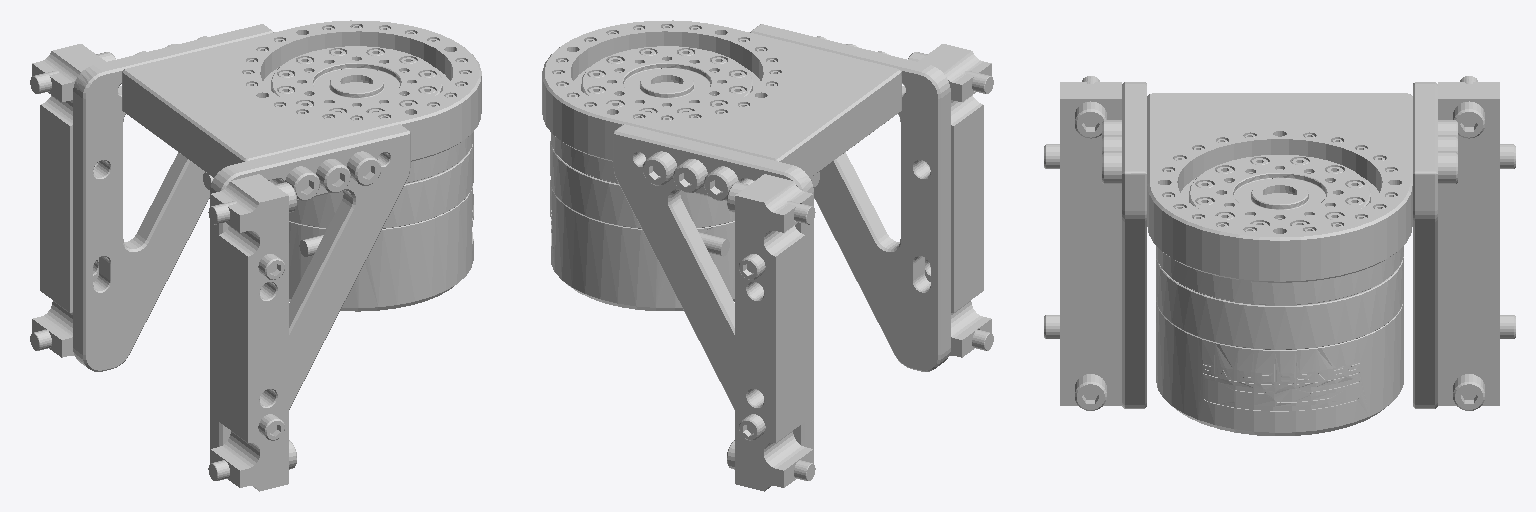
robot.urdf — scara_v2:
<?xml version="1.0" ?>
<!-- =================================================================================== -->
<!-- |    This document was autogenerated by xacro from scara_v2_with_gripper_urdf.xacro | -->
<!-- |    EDITING THIS FILE BY HAND IS NOT RECOMMENDED                                 | -->
<!-- =================================================================================== -->
<robot name="scara_v2" xmlns:xacro="http://www.ros.org/wiki/xacro">
  <!--  Material Color definitions -->
  <material name="white">
    <color rgba="1 1 1 1"/>
  </material>
  <material name="blue">
    <color rgba="0 0 1 1"/>
  </material>
  <material name="red">
    <color rgba="1 0 0 1"/>
  </material>
  <material name="green">
    <color rgba="0 1 0 1"/>
  </material>
  <material name="sensoSilver">
    <color rgba="0.839216 0.839216 0.839216 1"/>
  </material>
  <material name="sensoBlack">
    <color rgba="0 0 0 1 "/>
  </material>
  <material name="sensoGray">
    <color rgba="0.466667 0.533333 0.6 1 "/>
  </material>
  <material name="sensoDarkGray">
    <color rgba="0.156863 0.156863 0.156863 1 "/>
  </material>
  <!--****************************-->
  <!--****************************-->
  <!-- Link and Joint definitions  -->
  <link name="world"/>
  <joint name="world_to_BaseBox" type="fixed">
    <parent link="world"/>
    <child link="BaseBox"/>
    <origin rpy="0 0 0" xyz="0 0 0.965"/>
    <axis xyz="1 0 0"/>
  </joint>
  <!--           TABLE             -->
  <link name="BaseBox">
    <inertial>
      <origin rpy="0 0 0" xyz="0 0 0"/>
      <mass value="1"/>
      <inertia ixx="1" ixy="0" ixz="0" iyy="1" iyz="0" izz="1"/>
    </inertial>
    <visual>
      <origin rpy="0 0 0" xyz="0 0 0"/>
      <geometry>
        <mesh filename="package://scara_v2_with_gripper/meshes/baseBox.STL"/>
      </geometry>
      <material name="sensoGray">
            </material>
    </visual>
    <collision>
      <origin rpy="0 0 0" xyz="0 0 0"/>
      <geometry>
        <!--?????????-->
        <mesh filename="package://scara_v2_with_gripper/meshes/baseBox_modif.stl"/>
      </geometry>
    </collision>
  </link>
  <link name="CentralStop1">
    <inertial>
      <origin rpy="0 0 0" xyz="0 0 0"/>
      <mass value="0"/>
      <inertia ixx="1" ixy="0" ixz="0" iyy="1" iyz="0" izz="1"/>
    </inertial>
    <visual>
      <origin rpy="0 0 0" xyz="0 0 0"/>
      <geometry>
        <mesh filename="package://scara_v2_with_gripper/meshes/CentralStop1.STL"/>
      </geometry>
      <material name="red">
            </material>
    </visual>
    <collision>
      <origin rpy="0 0 0" xyz="0 0 0"/>
      <geometry>
        <mesh filename="package://scara_v2_with_gripper/meshes/CentralStop1_modif.stl"/>
      </geometry>
    </collision>
  </link>
  <joint name="Joint_CentralStop1" type="fixed">
    <parent link="BaseBox"/>
    <child link="CentralStop1"/>
    <origin rpy="-3.8218E-18 -1.301E-16 -3.1416" xyz="0.69 0.11 -0.0015"/>
    <axis xyz="1 0 0"/>
  </joint>
  <link name="CentralStop2">
    <inertial>
      <origin rpy="0 0 0" xyz="0 0 0"/>
      <mass value="1"/>
      <inertia ixx="1" ixy="0" ixz="0" iyy="1" iyz="0" izz="1"/>
    </inertial>
    <visual>
      <origin rpy="0 0 0" xyz="0 0 0"/>
      <geometry>
        <mesh filename="package://scara_v2_with_gripper/meshes/CentralStop2.STL"/>
      </geometry>
      <material name="red">
            </material>
    </visual>
    <collision>
      <origin rpy="0 0 0" xyz="0 0 0"/>
      <geometry>
        <mesh filename="package://scara_v2_with_gripper/meshes/CentralStop2_modif.stl"/>
      </geometry>
    </collision>
  </link>
  <joint name="Joint_CentralStop2" type="fixed">
    <parent link="BaseBox"/>
    <child link="CentralStop2"/>
    <origin rpy="-3.8218E-18 -1.301E-16 -3.1416" xyz="0.69 1.05 -0.0015"/>
    <axis xyz="1 0 0"/>
  </joint>
  <!-- ******************************-->
  <!--             SCARA             -->
  <link name="ScaraBase">
    <inertial>
      <origin rpy="0 0 0" xyz="0 0 0"/>
      <mass value="1"/>
      <inertia ixx="1" ixy="0" ixz="0" iyy="1" iyz="0" izz="1"/>
    </inertial>
    <visual>
      <origin rpy="0 0 0" xyz="0 0 0"/>
      <geometry>
        <mesh filename="package://scara_v2_with_gripper/meshes/ScaraBase.STL"/>
      </geometry>
      <material name="sensoSilver">
            </material>
    </visual>
    <collision>
      <origin rpy="0 0 0" xyz="0 0 0"/>
      <geometry>
        <mesh filename="package://scara_v2_with_gripper/meshes/ScaraBase.STL"/>
      </geometry>
    </collision>
  </link>
  <joint name="Joint_ScaraBase" type="fixed">
    <parent link="BaseBox"/>
    <child link="ScaraBase"/>
    <origin rpy="1.5708 0 0" xyz="0.212 0.58 0.141"/>
    <axis xyz="1 0 0"/>
  </joint>
  <link name="ScaraLink1">
    <inertial>
      <origin rpy="-1.57 0 0" xyz="0 0 0"/>
      <mass value="3.8063"/>
      <inertia ixx="7.8753E-3" ixy="4.6431E-3" ixz="-1.4702E-5" iyy="6.1309E-2" iyz="-5.8992E-6" izz="6.2681E-2"/>
    </inertial>
    <visual>
      <origin rpy="-1.57 0 0" xyz="0 0 0"/>
      <geometry>
        <mesh filename="package://scara_v2_with_gripper/meshes/ScaraLink1.STL"/>
        <!--ScaraLink1.STL-->
      </geometry>
      <material name="sensoSilver">
            </material>
    </visual>
    <collision>
      <origin rpy="-1.57 0 0" xyz="0 0 0"/>
      <geometry>
        <mesh filename="package://scara_v2_with_gripper/meshes/ScaraLink1.STL"/>
      </geometry>
    </collision>
  </link>
  <joint name="Joint1" type="revolute">
    <parent link="ScaraBase"/>
    <child link="ScaraLink1"/>
    <origin rpy="1.57 0 0" xyz="0 0.051 0"/>
    <axis xyz="0 0 1"/>
    <!--<limit effort="0" lower="-1.57079" upper="1.57079" velocity="0"/>-->
    <limit effort="0" lower="-1.4835298642" upper="1.4835298642" velocity="0"/>
  </joint>
  <link name="ScaraLink2">
    <inertial>
      <origin rpy="1.57 1.57 0" xyz="0 0 0"/>
      <mass value="1.5020"/>
      <inertia ixx="5.0471E-2" ixy="3.0689E-4" ixz="-8.5622E-4" iyy="4.7456E-2" iyz="8.7643E-3" izz="5.2228E-3"/>
    </inertial>
    <visual>
      <origin rpy="1.57 0 0" xyz="0 0 0"/>
      <geometry>
        <mesh filename="package://scara_v2_with_gripper/meshes/ScaraLink2.STL"/>
      </geometry>
      <material name="sensoSilver">
            </material>
    </visual>
    <collision>
      <origin rpy="0 1.57 0" xyz="0 0 0"/>
      <geometry>
        <mesh filename="package://scara_v2_with_gripper/meshes/ScaraLink2.STL"/>
      </geometry>
    </collision>
  </link>
  <joint name="Joint2" type="revolute">
    <parent link="ScaraLink1"/>
    <child link="ScaraLink2"/>
    <origin rpy="0 0 1.57" xyz="0.24972  0 0.081"/>
    <axis xyz="0 0 1"/>
    <!--<limit effort="0" lower="-2.65" upper="2.65" velocity="0"/>-->
    <limit effort="0" lower="-2.9670597284" upper="2.9670597284" velocity="0"/>
  </joint>
  <!--**********************************-->
  <!--     GRIPPER JOINTS DEFINITION    -->
  <!--Revolute joint for IKfast-->
  <!--<link name="fake_link"/>-->
  <!--<joint name="fake_joint" type="revolute">-->
  <!--<parent link="ScaraLink2" />-->
  <!--<child link="fake_link" />-->
  <!--&lt;!&ndash;<origin xyz="0 -0.24305 0.0424 " rpy="0 0 3.1416" />&ndash;&gt;-->
  <!--<origin xyz="0 -0.24305 -0.0424 " rpy="0 0 3.1416" />-->
  <!--<axis xyz="0 0 1" />-->
  <!--<limit effort="1000.0" lower="0.0" upper="0.001" velocity="0"/>-->
  <!--</joint>-->
  <link name="GripperBase">
    <inertial>
      <origin rpy="1.57 0 0" xyz="0 0 0"/>
      <mass value="1"/>
      <inertia ixx="1E-6" ixy="0" ixz="0" iyy="1E-6" iyz="0" izz="1E-6"/>
    </inertial>
    <visual>
      <origin rpy="1.57 0 0" xyz="0 0 0"/>
      <geometry>
        <mesh filename="package://scara_v2_with_gripper/meshes/GripperBase.STL"/>
      </geometry>
      <material name="sensoDarkGray">
            </material>
    </visual>
    <collision>
      <origin rpy="1.57 0 0" xyz="0 0 0"/>
      <geometry>
        <mesh filename="package://scara_v2_with_gripper/meshes/GripperBase.STL"/>
      </geometry>
    </collision>
  </link>
  <joint name="Joint_GripperBase" type="prismatic">
    <!--<parent link="fake_link" />-->
    <parent link="ScaraLink2"/>
    <child link="GripperBase"/>
    <!--<origin xyz="0 0 0" rpy="0 0 0" />-->
    <origin rpy="0 0 3.1416" xyz="0 -0.24305 -0.0424 "/>
    <axis xyz="0 0 1"/>
    <limit effort="1000.0" lower="-0.04" upper="0.05" velocity="1"/>
  </joint>
  <link name="tool0"/>
  <joint name="Base_to_tool0" type="fixed">
    <parent link="GripperBase"/>
    <child link="tool0"/>
    <origin rpy="0 0 0 " xyz="0 0 0.0984"/>
    <axis xyz="0 0 0"/>
  </joint>
  <link name="GripperLeft">
    <inertial>
      <origin rpy="3.14 0 0" xyz="0 0 0"/>
      <mass value="1"/>
      <inertia ixx="1E-6" ixy="0" ixz="0" iyy="1E-6" iyz="0" izz="1E-6"/>
    </inertial>
    <visual>
      <origin rpy="3.14 0 0" xyz="0 0 0"/>
      <geometry>
        <mesh filename="package://scara_v2_with_gripper/meshes/gripperLeft_full.STL"/>
      </geometry>
      <material name="sensoDarkGray">
            </material>
    </visual>
    <collision>
      <origin rpy="3.14 0 0" xyz="0 0 0"/>
      <geometry>
        <mesh filename="package://scara_v2_with_gripper/meshes/gripperLeft_full.STL"/>
      </geometry>
    </collision>
  </link>
  <joint name="Joint_Gripper" type="prismatic">
    <parent link="GripperBase"/>
    <child link="GripperLeft"/>
    <origin rpy="-1.57 0 0" xyz="-0.0162 0 0.0984"/>
    <axis xyz="1 0 0"/>
    <limit effort="1000.0" lower="0" upper="0.003" velocity="1"/>
  </joint>
  <link name="GripperRight">
    <inertial>
      <origin rpy="3.14 0 0" xyz="0 0 0"/>
      <mass value="1"/>
      <inertia ixx="1E-6" ixy="0" ixz="0" iyy="1E-6" iyz="0" izz="1E-6"/>
    </inertial>
    <visual>
      <origin rpy="3.14 0 0" xyz="0 0 0"/>
      <geometry>
        <mesh filename="package://scara_v2_with_gripper/meshes/gripperRight_full.STL"/>
      </geometry>
      <material name="sensoDarkGray">
            </material>
    </visual>
    <collision>
      <origin rpy="3.14 0 0" xyz="0 0 0"/>
      <geometry>
        <mesh filename="package://scara_v2_with_gripper/meshes/gripperRight_full.STL"/>
      </geometry>
    </collision>
  </link>
  <joint name="Joint_GripperRight" type="prismatic">
    <parent link="GripperBase"/>
    <child link="GripperRight"/>
    <origin rpy="1.57 0 3.1416" xyz="0.0165 0 0.0984"/>
    <axis xyz="1 0 0"/>
    <limit effort="1000.0" lower="0" upper="0.003" velocity="1"/>
    <mimic joint="Joint_Gripper" multiplier="1" offset="0"/>
  </joint>
</robot>

--- What the picture shows (computed from the rendered views, not written in the file) ---
3 views of the same robot in one strip: view 1: azimuth 30°, elevation 25°; view 2: azimuth 150°, elevation 25°; view 3: azimuth 270°, elevation 25° (orthographic).
Model scara_v2 with 11 links and 10 joints (2 revolute, 3 prismatic, 5 fixed), rooted at world, posed all joints at 0.
Links seen in each view (by area): view 1: ScaraBase; view 2: ScaraBase; view 3: ScaraBase.
Boxes of the visible links, x1=… form: ScaraBase: x1=30, y1=20, x2=481, y2=491; ScaraBase: x1=542, y1=20, x2=993, y2=491; ScaraBase: x1=1044, y1=76, x2=1515, y2=435.
Bounding box of the posed robot: 0.167 × 0.188 × 0.14 m (x, y, z).
Meshes: 9 distinct files referenced, 1 mesh visuals loaded (1 binary STL); not drawn: 8 (reference not matched to a file when rendering).